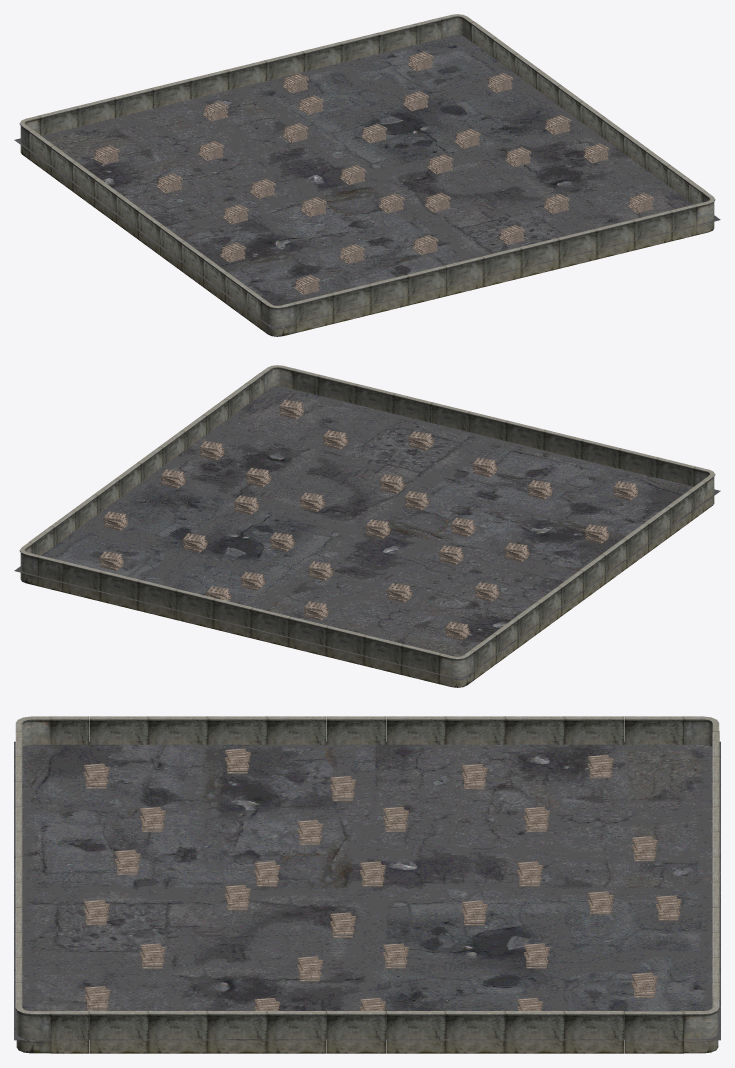
The model's file is eStage.fbx.
3 renders of one model, top to bottom at view 1: azimuth 30°, elevation 25°; view 2: azimuth 150°, elevation 25°; view 3: azimuth 270°, elevation 25°, orthographic. The views are drawn at different scales.
Visible parts, largest first — view 1: Alphalt_Floor, Wall__32_, Wall__29_, Wall__35_, Wall__33_, Wall__30_, Wall__34_, Wall__36_, Wall__31_, Wall__27_, Wall__28_, Wall_corner_2__2_ (+30 smaller); view 2: Alphalt_Floor, Wall__7_, Wall__13_, Wall__10_, Wall__11_, Wall__5_, Wall__12_, Wall__8_, Wall__14_, Wall__9_, Wall__6_, Wall_corner_2__1_ (+30 smaller); view 3: Alphalt_Floor, Wall__17_, Wall__19_, Wall__22_, Wall__25_, Wall__16_, Wall__18_, Wall__20_, Wall__21_, Wall__23_, Wall__24_, Wall__1_ (+40 smaller).
Boxes of the visible parts, box(x1,y1,x2,y2) form: Alphalt_Floor: box(14, 35, 720, 329); Wall__32_: box(481, 247, 521, 287); Wall__29_: box(369, 275, 408, 314); Wall__35_: box(595, 220, 634, 259); Wall__33_: box(519, 238, 559, 277); Wall__30_: box(406, 265, 446, 305); Wall__34_: box(557, 229, 596, 268); Wall__36_: box(632, 210, 672, 250); Wall__31_: box(444, 256, 483, 296); Wall__27_: box(294, 293, 333, 332); Wall__28_: box(331, 284, 370, 323); Wall_corner_2__2_: box(260, 299, 295, 336); Alphalt_Floor: box(14, 386, 720, 680); Wall__7_: box(326, 626, 365, 665); Wall__13_: box(100, 571, 139, 610); Wall__10_: box(213, 598, 253, 637); Wall__11_: box(175, 589, 215, 628); Wall__5_: box(401, 644, 440, 684); Wall__12_: box(138, 580, 177, 619); Wall__8_: box(288, 616, 328, 656); Wall__14_: box(62, 561, 102, 601); Wall__9_: box(251, 607, 290, 647); Wall__6_: box(364, 635, 403, 674); Wall_corner_2__1_: box(439, 650, 474, 687); Alphalt_Floor: box(14, 741, 720, 1040); Wall__17_: box(505, 1011, 564, 1053); Wall__19_: box(624, 1011, 683, 1053); Wall__22_: box(267, 1011, 326, 1053); Wall__25_: box(89, 1011, 148, 1053); Wall__16_: box(565, 1011, 624, 1053); Wall__18_: box(446, 1011, 505, 1053); Wall__20_: box(386, 1011, 445, 1053); Wall__21_: box(327, 1011, 386, 1053); Wall__23_: box(208, 1011, 267, 1053); Wall__24_: box(148, 1011, 207, 1053); Wall__1_: box(565, 716, 624, 744).
Size of the model in its own units: 4800 by 299 by 4800.
Materials: 27 (27 with a texture image).
